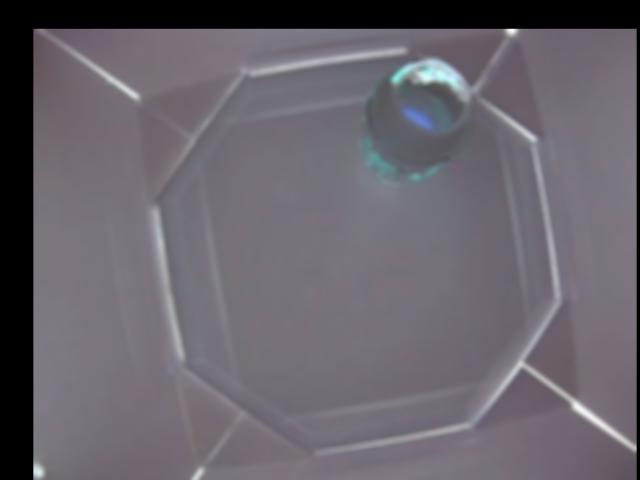Bottle: (360, 54, 474, 187)
